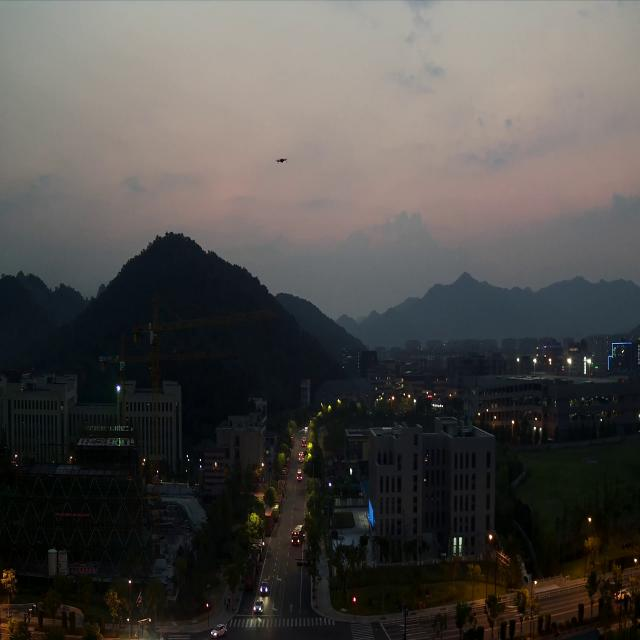drone: (275, 156, 288, 164)
